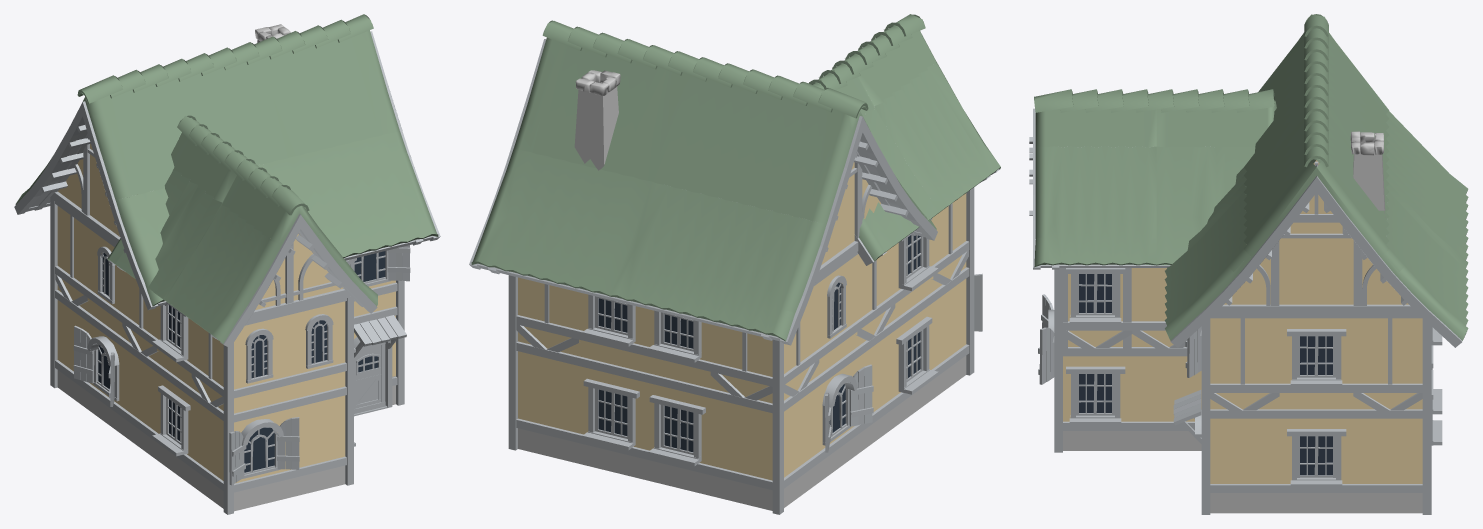
Rendered from l_house.gltf.
The picture shows the model from 3 angles, left to right: view 1: azimuth 30°, elevation 25°; view 2: azimuth 150°, elevation 25°; view 3: azimuth 270°, elevation 25°; orthographic projection. The views are drawn at different scales.
Parts seen in each view (by area): view 1: Roof_RoundTiles_6x8.071, Roof_RoundTiles_4x6.074, Wall_Plaster_Straight_Base.004, Roof_Front_Brick4.075, Wall_Plaster_Window_Thin_Round+upper.038, Roof_Front_Brick6.072, Wall_Plaster_Window_Thin_Round+upper.036, Wall_Plaster_Straight_Base.013, Wall_Plaster_Straight+upper.045, Wall_Plaster_Straight_Base.016, Wall_Plaster_Window_Wide_Round.001, Wall_Plaster_Straight_Base.009 (+29 smaller); view 2: Roof_RoundTiles_6x8.071, Roof_RoundTiles_4x6.074, Wall_Plaster_Straight_Base.024, Wall_Plaster_Straight_Base.029, Wall_Plaster_Window_Wide_Flat.025, Wall_Plaster_Window_Wide_Flat.027, Wall_Plaster_Straight+upper.059, Wall_Plaster_Straight+upper.064, Wall_Plaster_Straight_Base.016, Roof_Front_Brick6.072, Wall_Plaster_Straight_Base.009, Prop_Chimney.076 (+25 smaller); view 3: Roof_RoundTiles_6x8.071, Roof_RoundTiles_4x6.074, Roof_Front_Brick6.073, Wall_Plaster_Straight_Base.020, Wall_Plaster_Straight_Base.023, Wall_Plaster_Straight+upper.055, Wall_Plaster_Straight+upper.058, Wall_Plaster_Straight_Base.019, Wall_Plaster_Window_Wide_Flat.021, Wall_Plaster_Window_Wide_Flat.017, Wall_Plaster_Window_Wide_Flat+upper.056, Window_Wide_Flat1.018 (+15 smaller).
Boxes of the visible parts, box(x1,y1,x2,y2) form: Roof_RoundTiles_6x8.071: box(14, 14, 440, 310); Roof_RoundTiles_4x6.074: box(107, 115, 377, 347); Wall_Plaster_Straight_Base.004: box(288, 386, 346, 497); Roof_Front_Brick4.075: box(247, 234, 351, 322); Wall_Plaster_Window_Thin_Round+upper.038: box(288, 298, 346, 399); Roof_Front_Brick6.072: box(41, 125, 125, 253); Wall_Plaster_Window_Thin_Round+upper.036: box(234, 312, 290, 413); Wall_Plaster_Straight_Base.013: box(122, 339, 159, 461); Wall_Plaster_Straight+upper.045: box(55, 201, 90, 313); Wall_Plaster_Straight_Base.016: box(191, 389, 223, 508); Wall_Plaster_Window_Wide_Round.001: box(234, 400, 290, 511); Wall_Plaster_Straight_Base.009: box(55, 290, 90, 410); Roof_RoundTiles_6x8.071: box(469, 20, 937, 345); Roof_RoundTiles_4x6.074: box(808, 14, 1000, 265); Wall_Plaster_Straight_Base.024: box(516, 341, 580, 463); Wall_Plaster_Straight_Base.029: box(710, 389, 772, 510); Wall_Plaster_Window_Wide_Flat.025: box(578, 356, 646, 479); Wall_Plaster_Window_Wide_Flat.027: box(644, 373, 712, 496); Wall_Plaster_Straight+upper.059: box(516, 277, 580, 356); Wall_Plaster_Straight+upper.064: box(710, 325, 772, 403); Wall_Plaster_Straight_Base.016: box(930, 267, 969, 400); Roof_Front_Brick6.072: box(815, 141, 908, 282); Wall_Plaster_Straight_Base.009: box(784, 377, 819, 507); Prop_Chimney.076: box(574, 70, 620, 170); Roof_RoundTiles_6x8.071: box(1164, 14, 1468, 347); Roof_RoundTiles_4x6.074: box(1033, 89, 1276, 269); Roof_Front_Brick6.073: box(1214, 160, 1419, 315); Wall_Plaster_Straight_Base.020: box(1210, 409, 1279, 513); Wall_Plaster_Straight_Base.023: box(1353, 409, 1422, 513); Wall_Plaster_Straight+upper.055: box(1210, 315, 1279, 410); Wall_Plaster_Straight+upper.058: box(1353, 315, 1422, 410); Wall_Plaster_Straight_Base.019: box(1132, 347, 1201, 450); Wall_Plaster_Window_Wide_Flat.021: box(1279, 409, 1353, 513); Wall_Plaster_Window_Wide_Flat.017: box(1063, 347, 1132, 450); Wall_Plaster_Window_Wide_Flat+upper.056: box(1279, 315, 1353, 409); Window_Wide_Flat1.018: box(1066, 366, 1125, 425).
Size of the model in its own units: 9.68 by 11.02 by 11.92.
